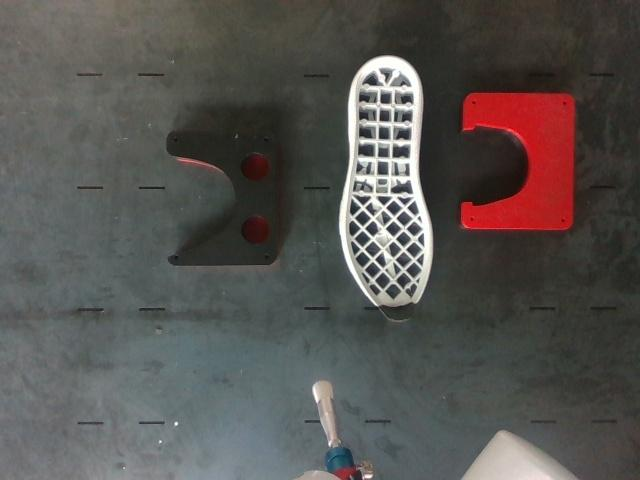shoes: (346, 59, 432, 323)
